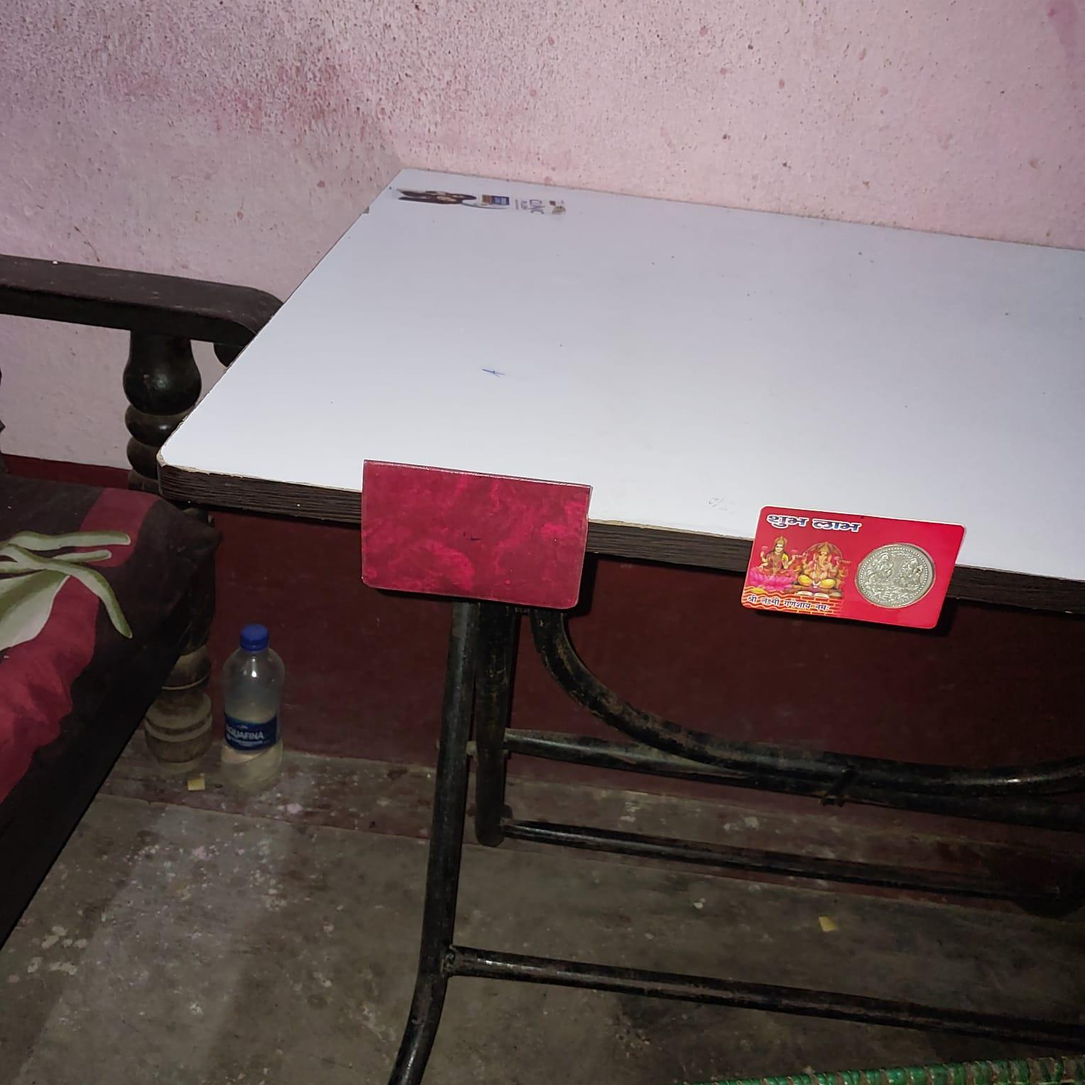blessing_card: (737, 495, 959, 628)
wallet: (355, 461, 589, 618)
